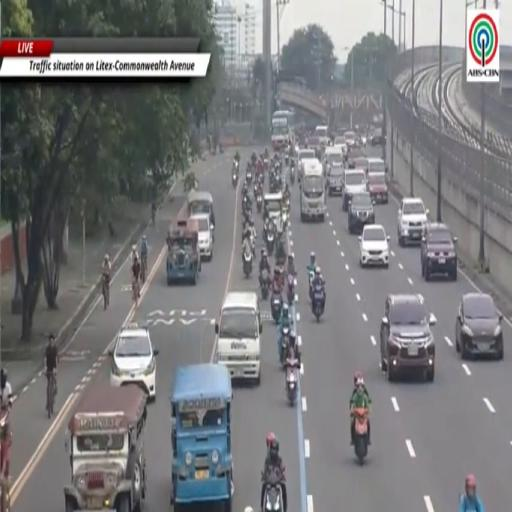bus: (271, 110, 293, 151)
car: (380, 294, 436, 381), (109, 324, 158, 399), (456, 293, 503, 359), (421, 222, 457, 281), (397, 198, 429, 246), (359, 224, 389, 267), (348, 192, 375, 234), (191, 214, 213, 261), (342, 169, 366, 212), (368, 172, 388, 203), (327, 166, 344, 196), (370, 129, 384, 146)
jeepney: (64, 383, 146, 511), (170, 364, 233, 511), (167, 218, 200, 284), (0, 408, 11, 511), (187, 191, 215, 231), (264, 192, 286, 233)
motorcycle: (352, 408, 368, 465), (262, 471, 284, 511), (286, 360, 298, 406), (312, 285, 324, 323), (279, 327, 290, 367), (271, 293, 282, 324), (276, 234, 286, 266), (266, 223, 275, 255), (243, 250, 253, 278), (261, 268, 269, 299), (287, 275, 294, 305), (309, 270, 314, 301), (256, 193, 263, 213), (243, 196, 251, 213), (250, 233, 255, 256), (284, 195, 290, 212), (290, 160, 294, 185), (232, 172, 238, 187), (246, 170, 252, 184), (264, 158, 268, 170), (285, 154, 288, 166)
truck: (300, 162, 326, 221)
